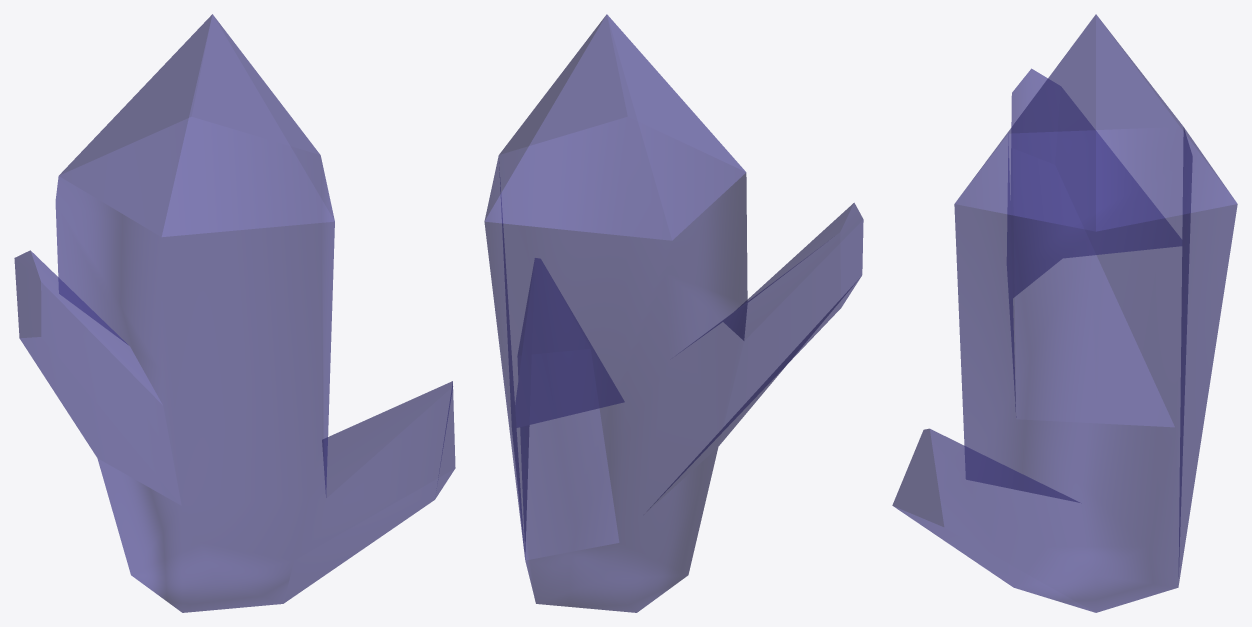
File: catalyst crystal.fbx
3 views of the same model, side by side, from view 1: azimuth 30°, elevation 25°; view 2: azimuth 150°, elevation 25°; view 3: azimuth 270°, elevation 25° (orthographic).
Parts seen in each view (by area): view 1: pPyramid1; view 2: pPyramid1; view 3: pPyramid1.
Part boxes in pixels (<box>): pPyramid1: <box>14,14,455,612</box>; pPyramid1: <box>484,14,863,612</box>; pPyramid1: <box>892,14,1237,612</box>.
Bounding box in the file's own units: 9.56 × 13.55 × 7.58.
